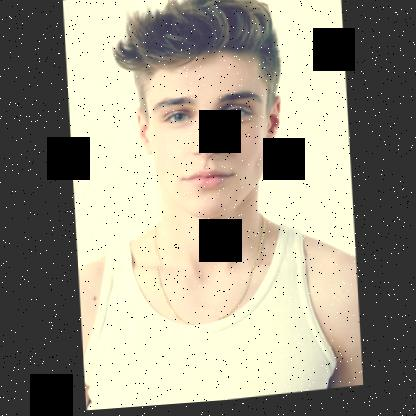Male: (131, 46, 284, 228)
